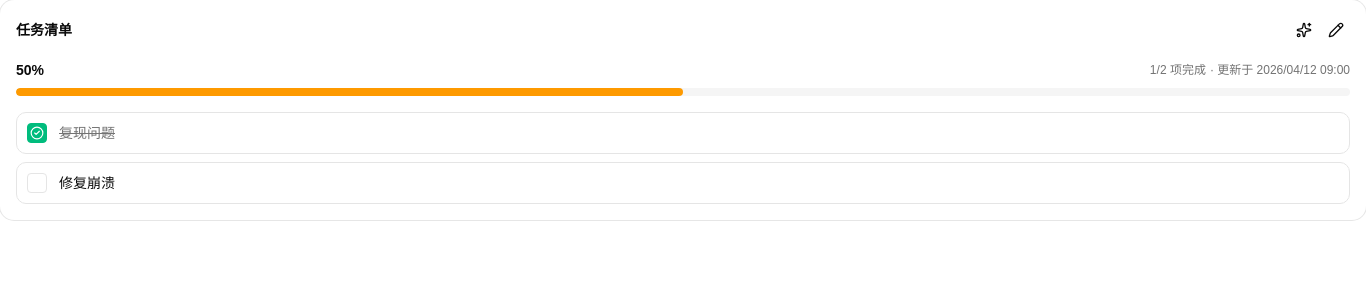
Test: IssueChecklistCard › cancels edit mode and restores the persisted items
The width and height of the screenshot is (1366, 302).
Click the button named "编辑".
click(1336, 30)  # box [1322, 16, 1350, 44]
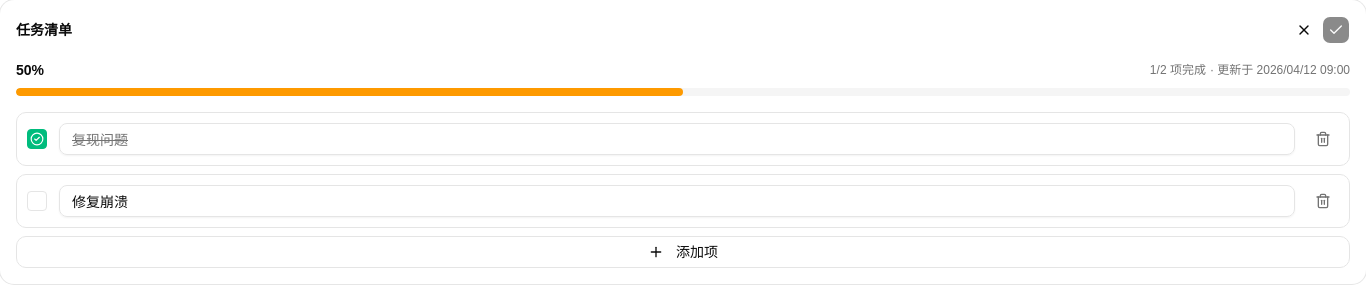
Replace the text in the 2nd field showing "修复崩溃" with "未保存的草稿" at [677, 201], box [59, 185, 1295, 217]
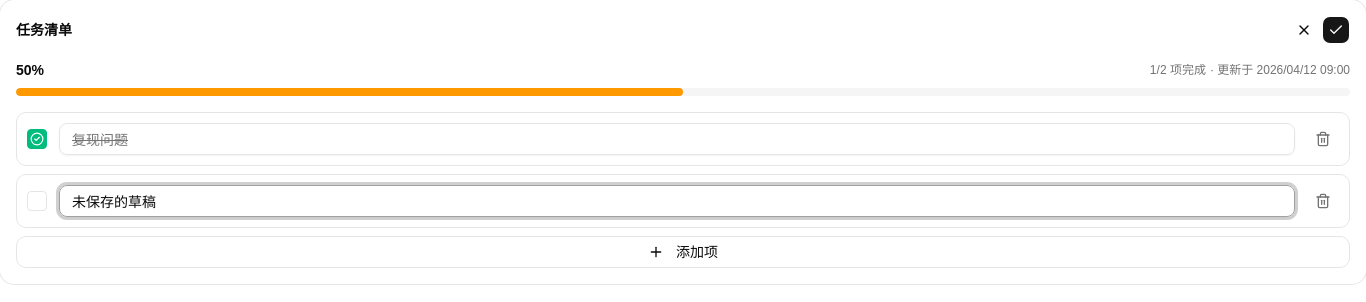
Click the button named "取消编辑".
click(1304, 30)  # box [1290, 16, 1318, 44]
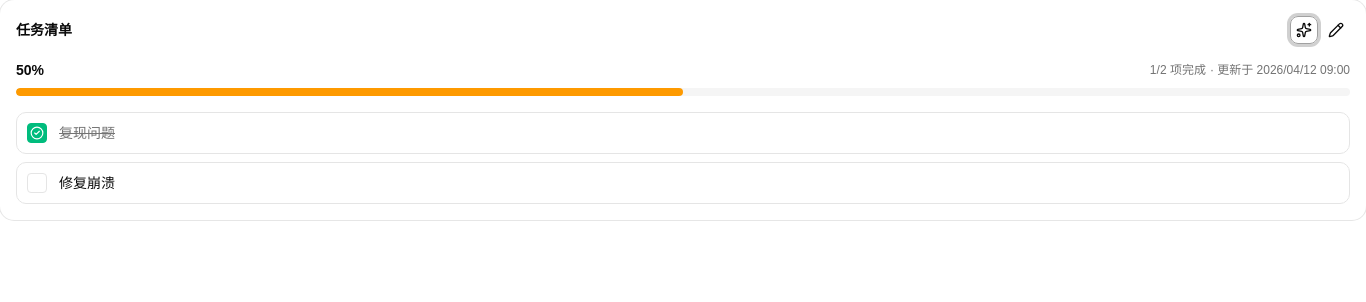
Expected: the field showing "未保存的草稿" is not shown
Expected: the text "修复崩溃" is shown, [59, 175, 115, 191]
